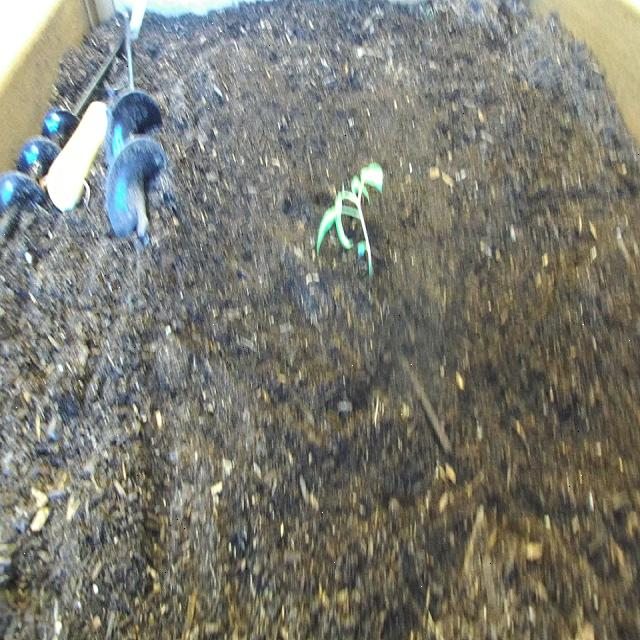Healthy: (314, 158, 388, 288)
